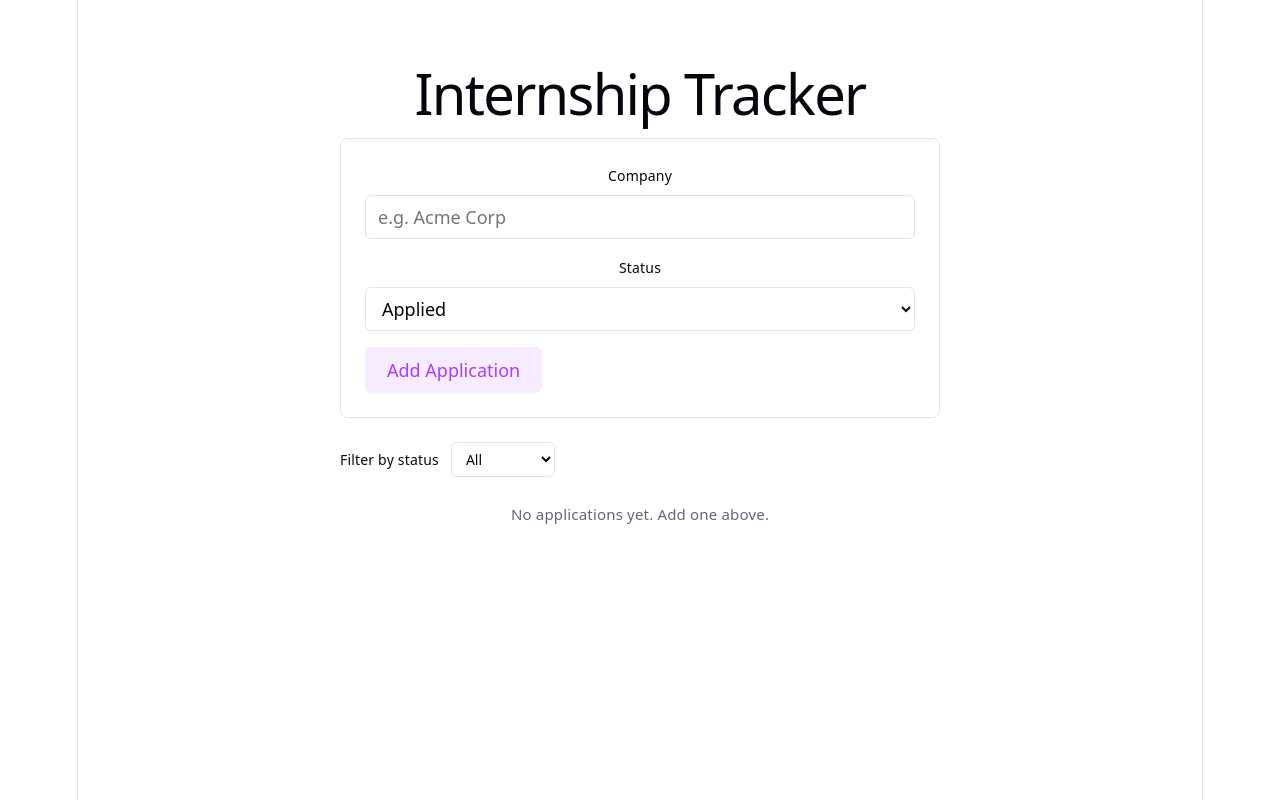
Test: Internship Tracker › test_filter_by_status: shows only applications matching the selected status
Type "Google" into the field labelled "Company" at x=640, y=217, box [365,195,915,239]
Select "Applied" in the dropdown labelled "Status" at x=640, y=309, box [365,287,915,331]
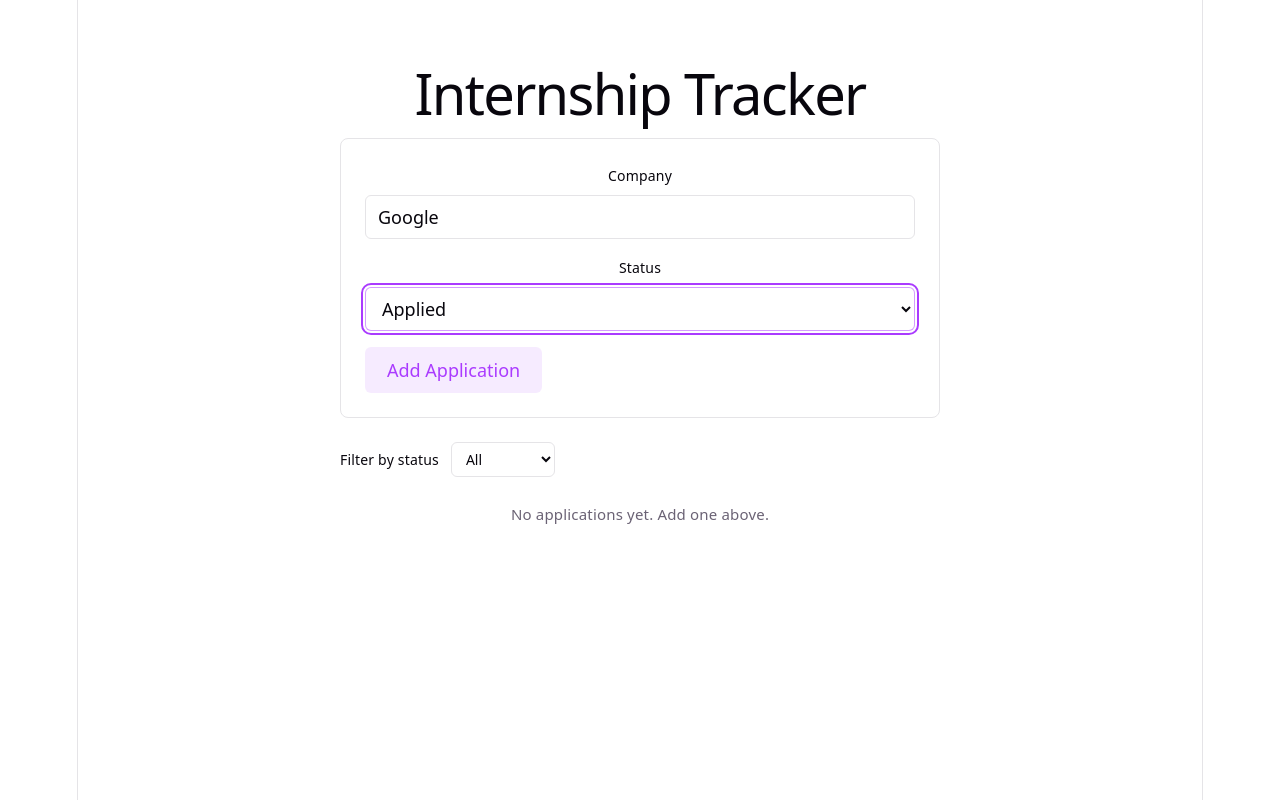
Click the button "Add Application" at x=454, y=370, box [365,347,542,394]
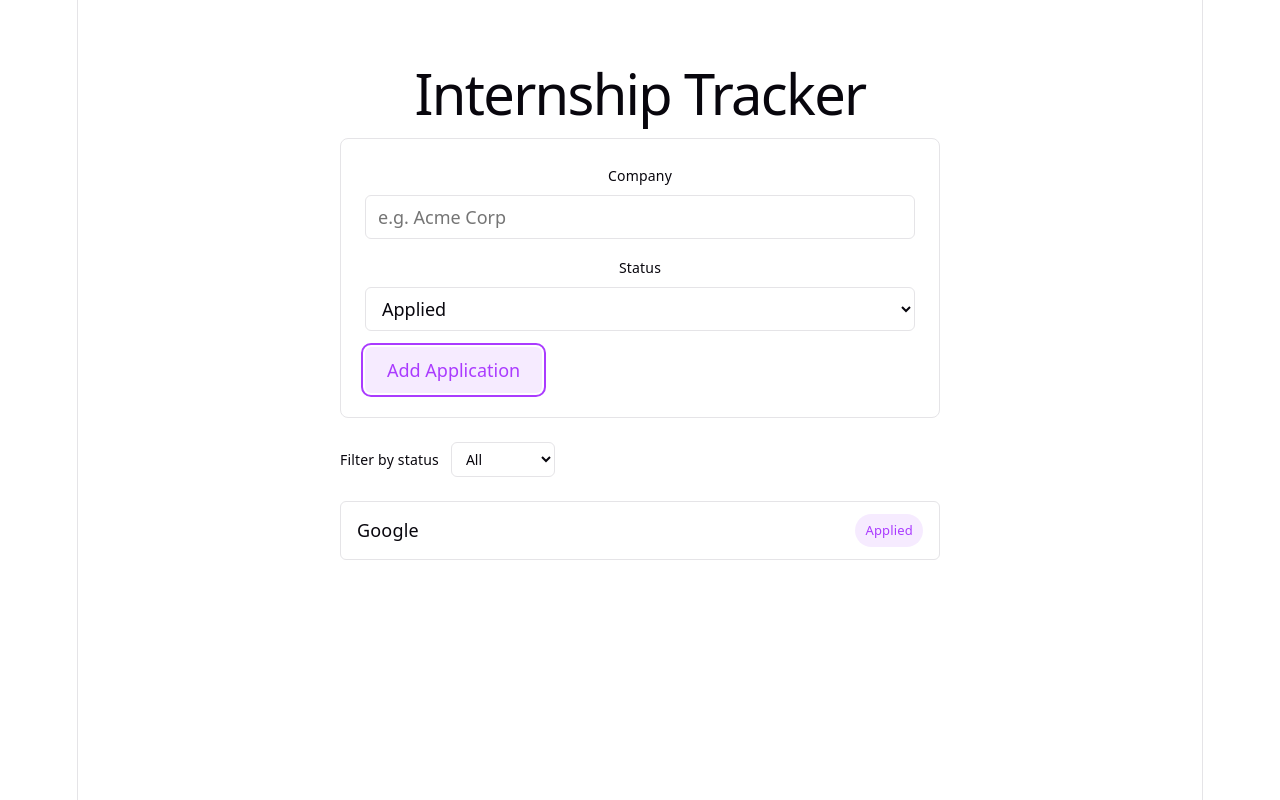
Type "Meta" into the field labelled "Company" at x=640, y=217, box [365,195,915,239]
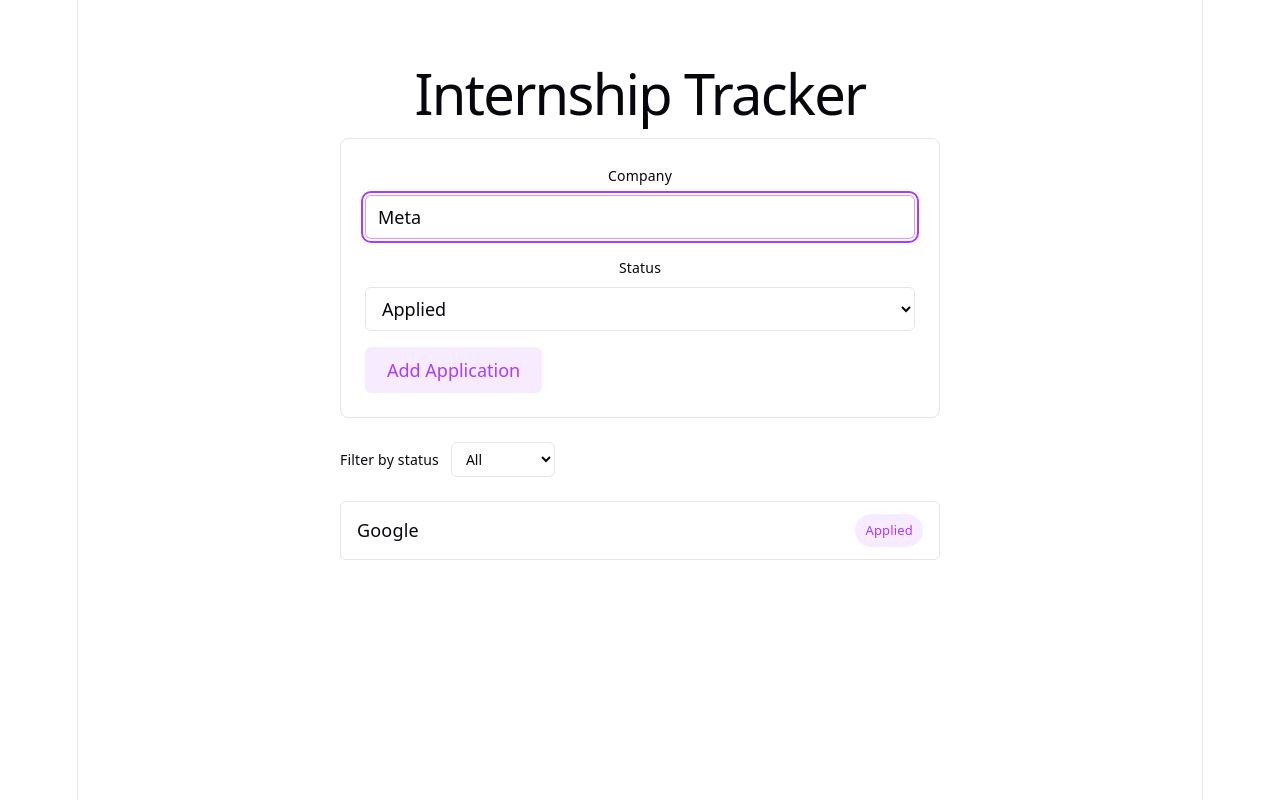
Select "Offer" in the dropdown labelled "Status" at x=640, y=309, box [365,287,915,331]
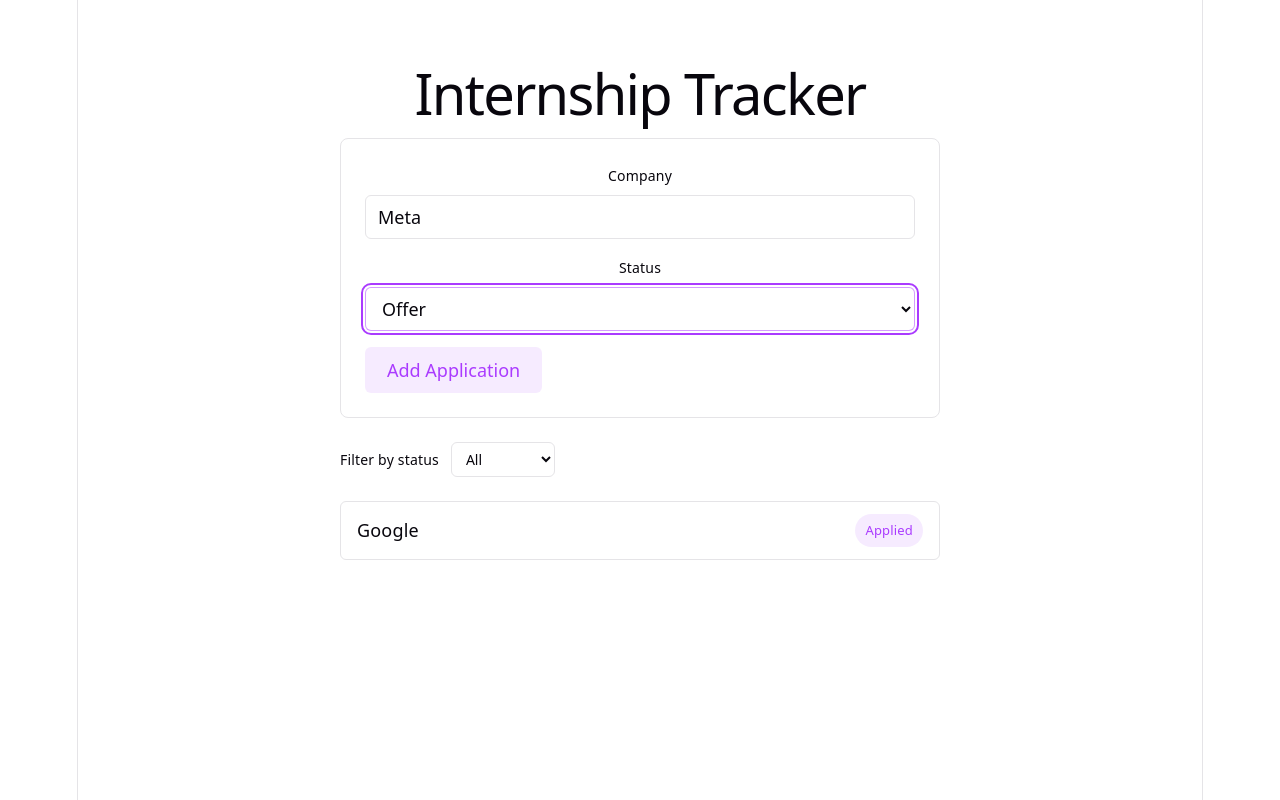
Click the button "Add Application" at x=454, y=370, box [365,347,542,394]
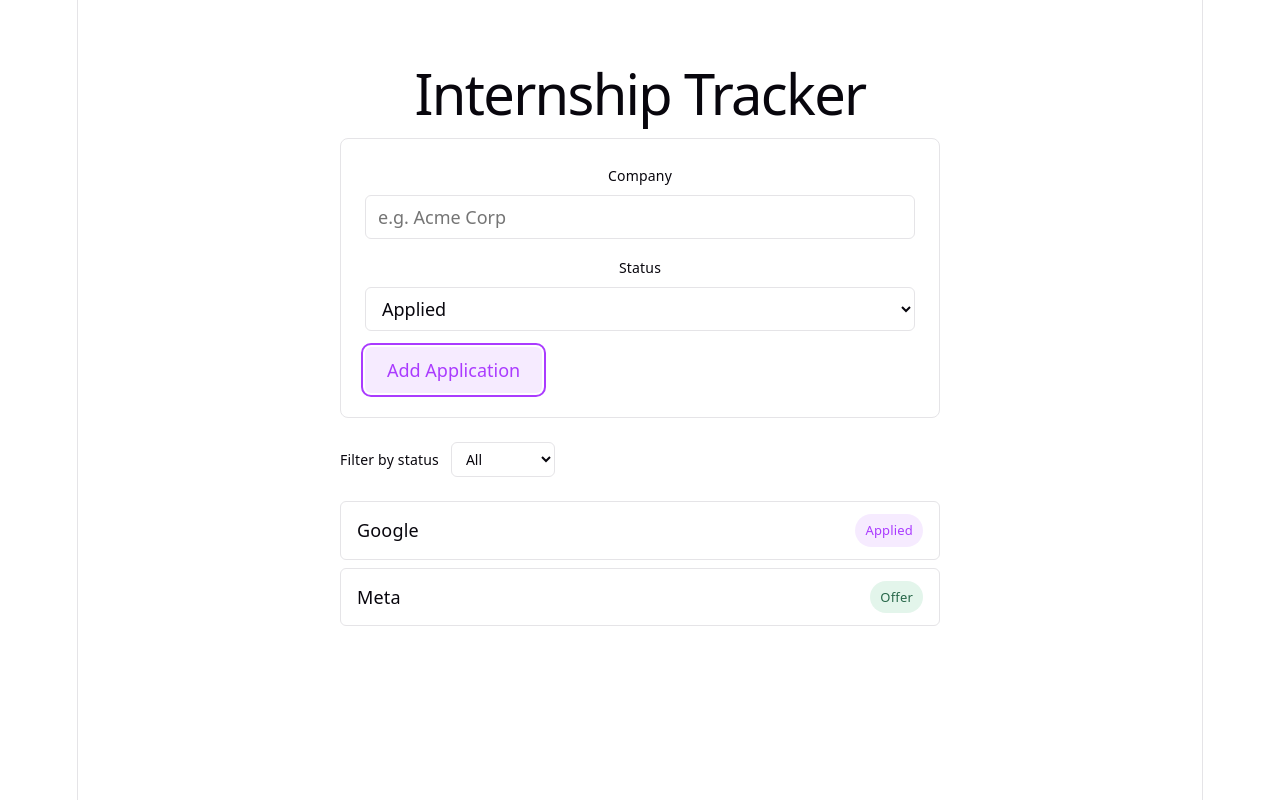
Now the text "Google" is shown, box [357,518,419,544]
Now the text "Meta" is shown, box [357,584,401,610]
Select "Offer" in the dropdown labelled "Filter by status" at x=503, y=460, box [451,442,555,478]
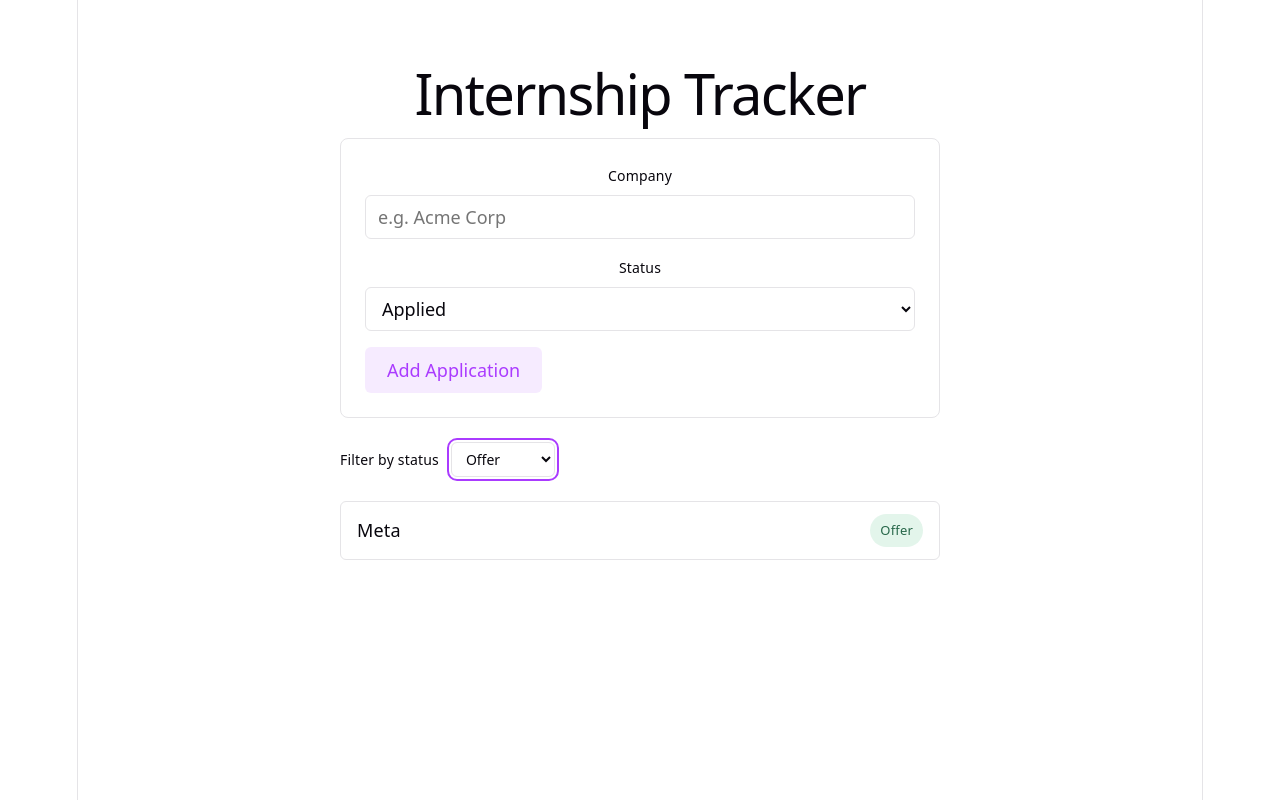
Now the text "Meta" is shown, box [357,518,401,544]
Now the text "Google" is gone
